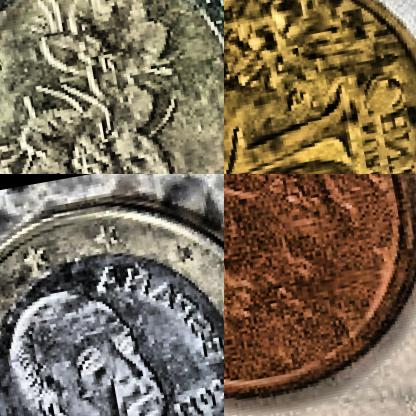coin: (0, 174, 223, 415), (224, 174, 415, 415), (0, 0, 223, 173), (224, 0, 415, 173)
